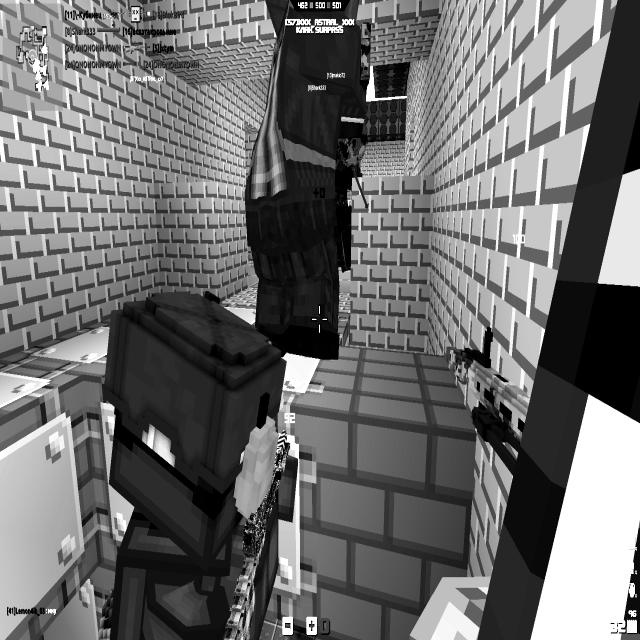Head: (106, 287, 284, 570)
Player: (98, 293, 297, 639), (244, 0, 369, 360), (330, 106, 375, 286)
